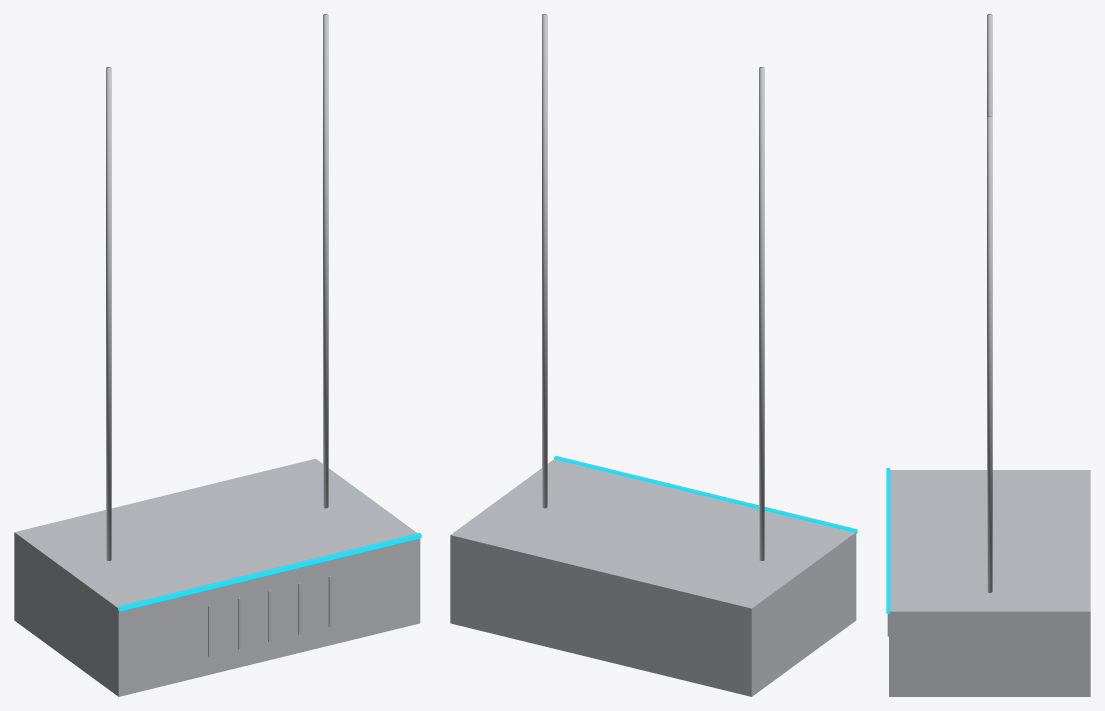
File: Light_PendantBox.gltf
3 views of the same model, side by side, from view 1: azimuth 30°, elevation 25°; view 2: azimuth 150°, elevation 25°; view 3: azimuth 270°, elevation 25° (orthographic). The views are drawn at different scales.
Visible parts, largest first — view 1: Light_PendantBox; view 2: Light_PendantBox; view 3: Light_PendantBox.
Part boxes in pixels (x1,y1,x2,y2): Light_PendantBox: (14,14,421,696); Light_PendantBox: (450,14,857,696); Light_PendantBox: (886,14,1090,696).
Size of the model in its own units: 0.5 by 0.926 by 0.304.
